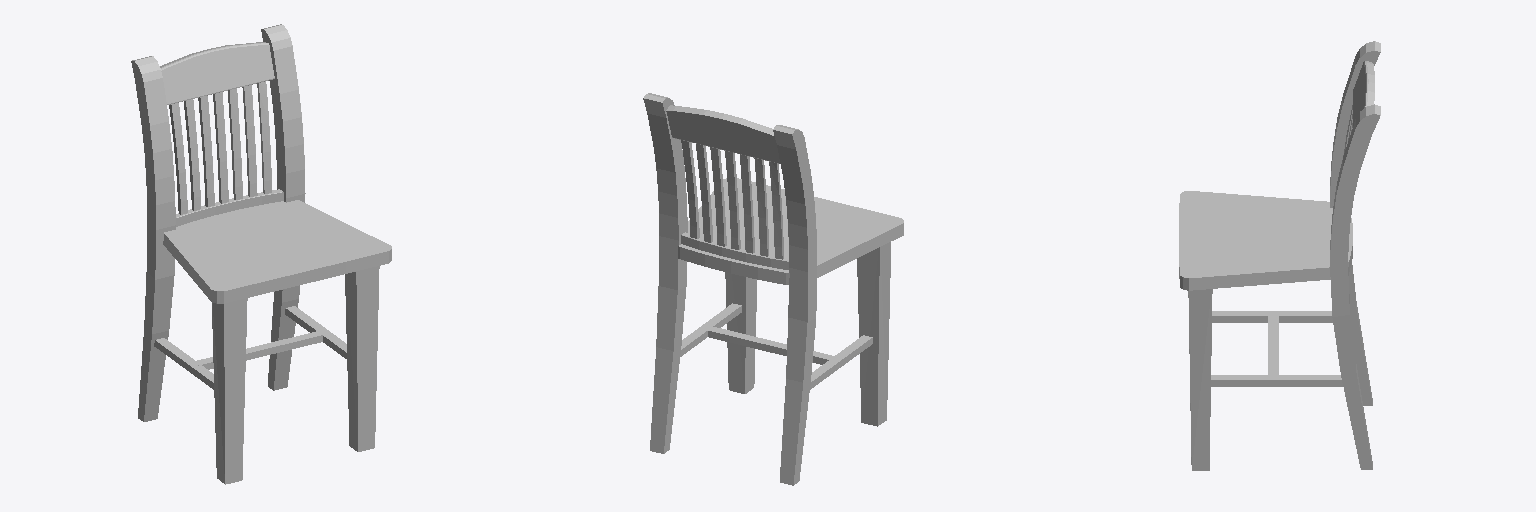
The model's file is chair.obj.
3 renders of one model, left to right at view 1: azimuth 30°, elevation 25°; view 2: azimuth 150°, elevation 25°; view 3: azimuth 270°, elevation 25°, orthographic.
Parts seen in each view (by area): view 1: Nojka_LP4_Detached01; view 2: Nojka_LP4_Detached01; view 3: Nojka_LP4_Detached01.
Boxes of the visible parts, x1,y1,x2,y2 form: Nojka_LP4_Detached01: [131, 24, 391, 484]; Nojka_LP4_Detached01: [643, 93, 903, 485]; Nojka_LP4_Detached01: [1179, 41, 1380, 470].
Size of the model in its own units: 11.2 by 21.22 by 10.84.